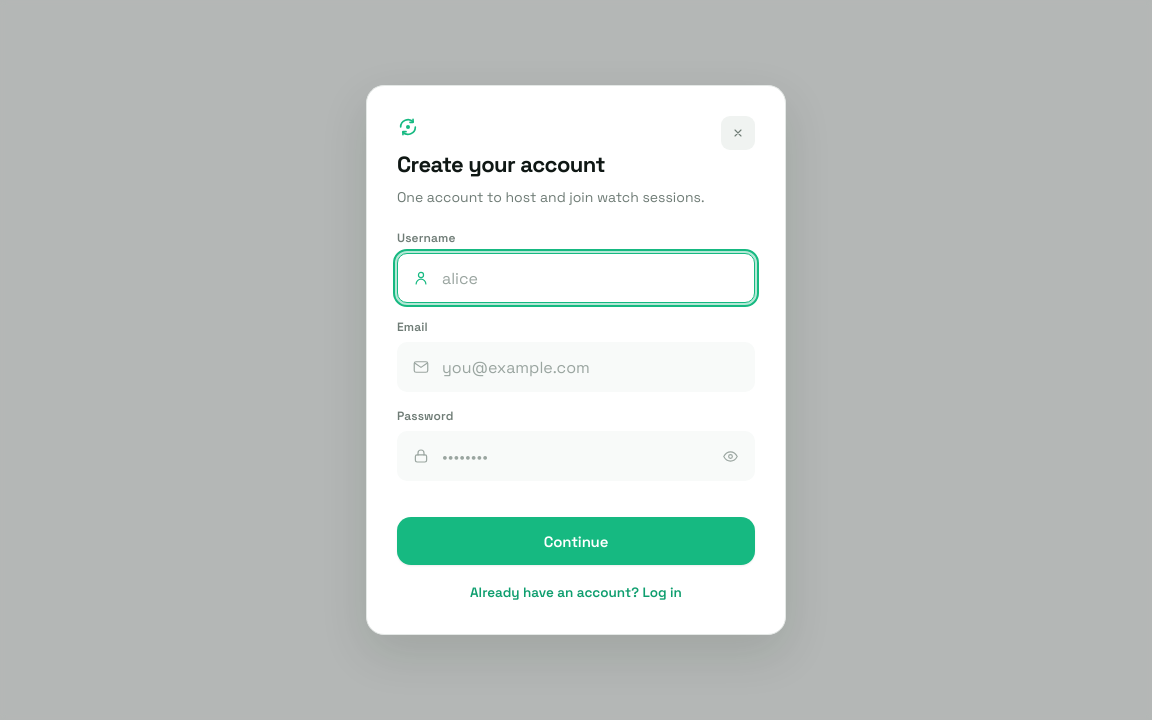
Scenario: AuthModal › switches to the login view after a successful register and clears the password
Type "validuser" into the field labelled "Username" at (576, 278), box [397,253,755,303]
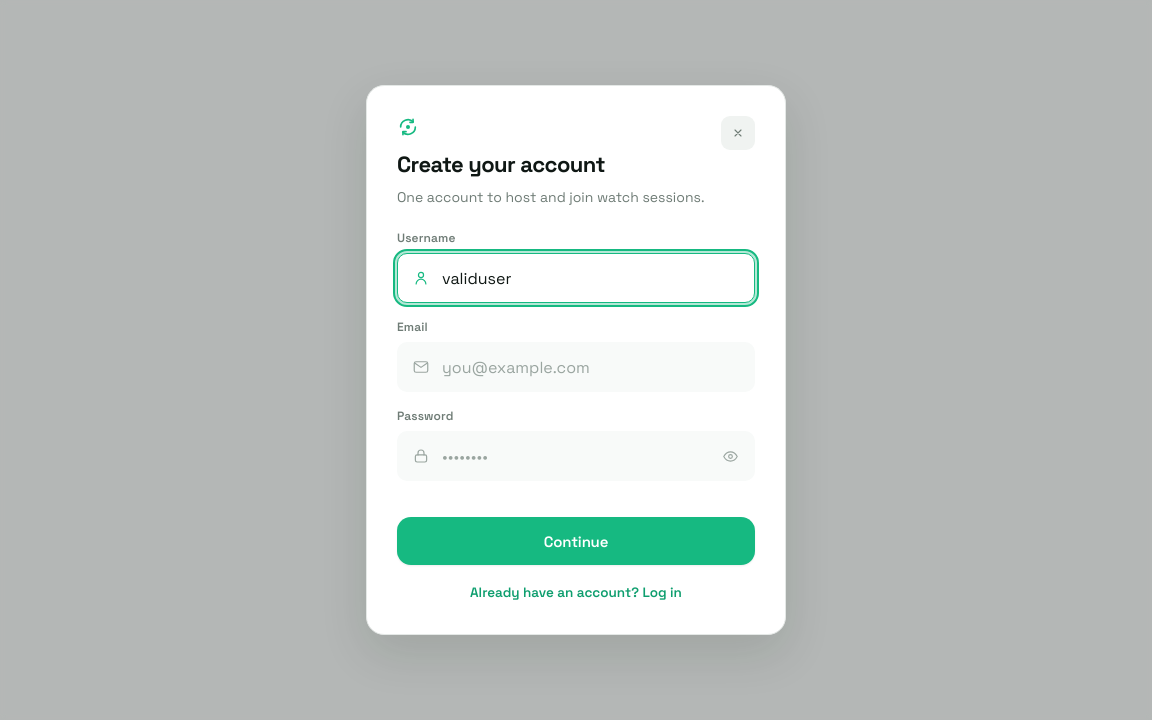
Type "a@b.co" into the field labelled "Email" at (576, 367), box [397,342,755,392]
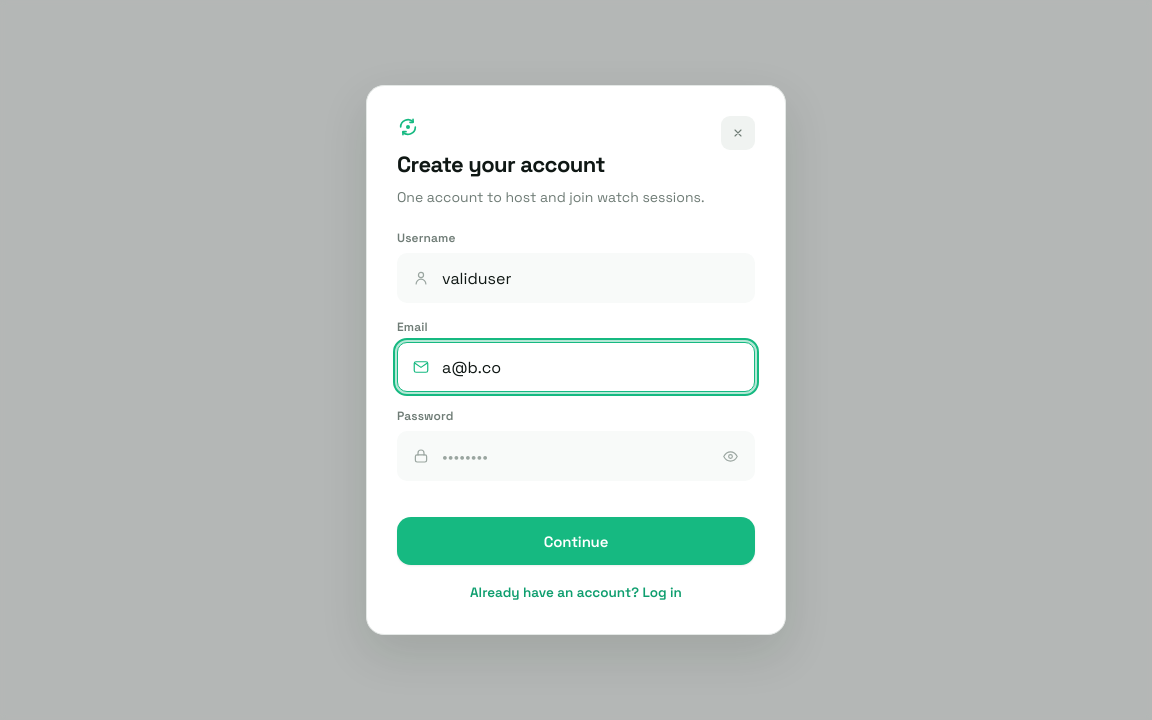
Type "password1" into the password field labelled "Password" at (576, 456), box [397,431,755,481]
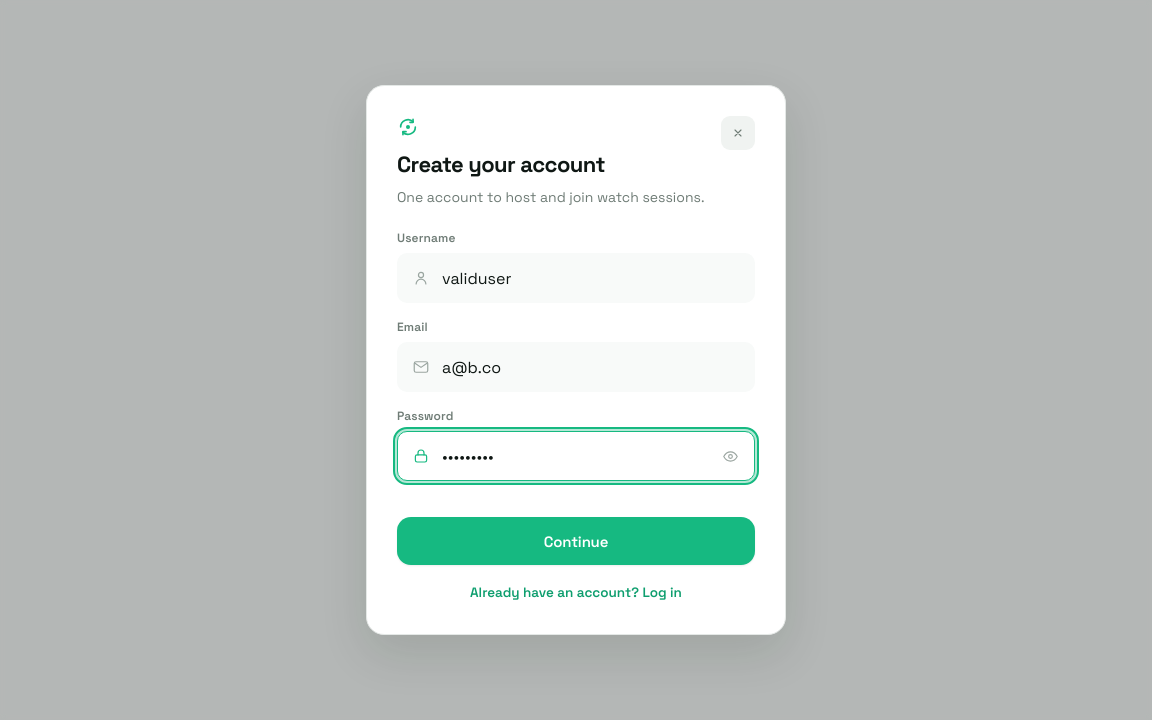
Click the button "Continue" at (576, 541), box [397,517,755,565]
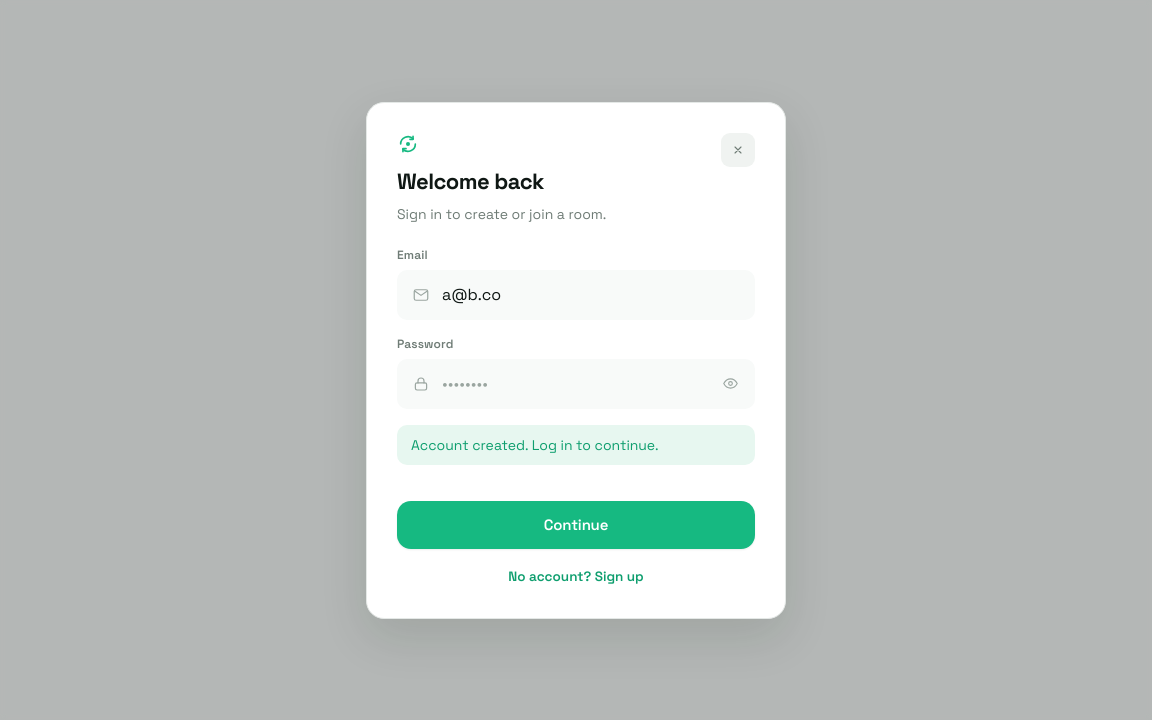
Check: the text "Account created. Log in to continue." is shown, box [397,424,755,464]
Check: the heading "Welcome back" is shown, box [397,166,544,194]
Check: the password field labelled "Password" is empty, box [397,358,755,408]
